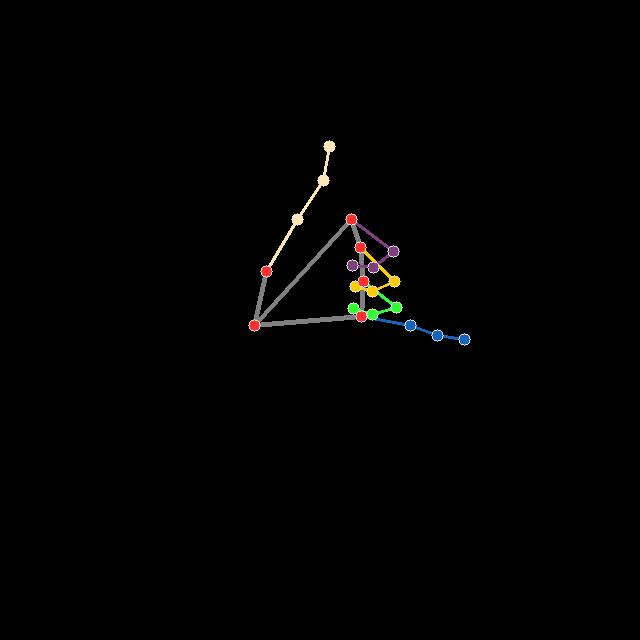skr: (246, 138, 472, 347)
